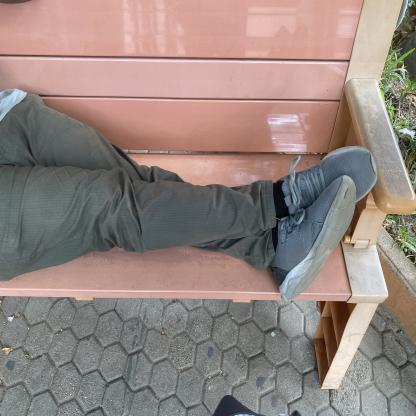leg: (167, 104, 416, 316)
